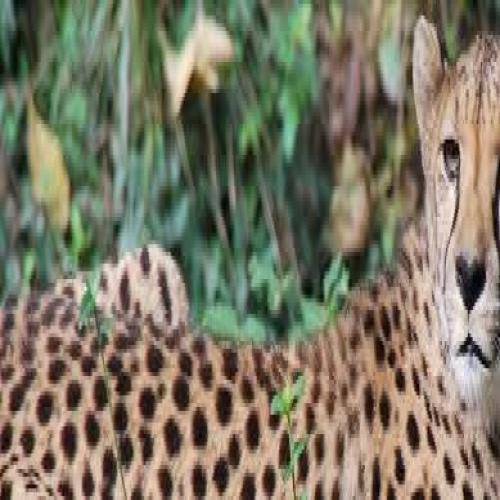cheetah-endangered: (0, 31, 500, 500)
